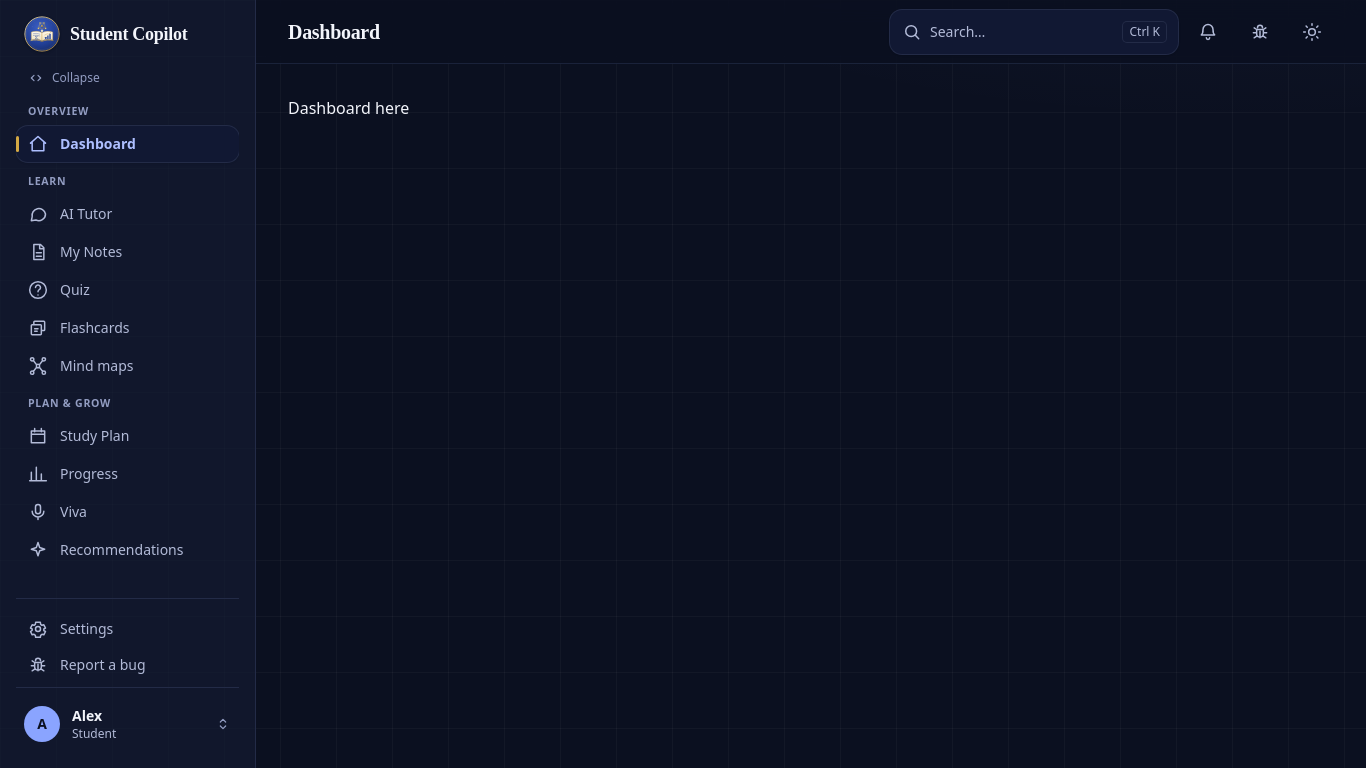
it: everyone can report a bug › a student has a visible 'Report a bug' button in the sidebar and in the top bar, and it opens one dialog
Expected: the text "Dashboard here" is shown, [288, 97, 409, 119]
Click the button "Report a bug".
click(128, 665)  # box [16, 647, 239, 683]
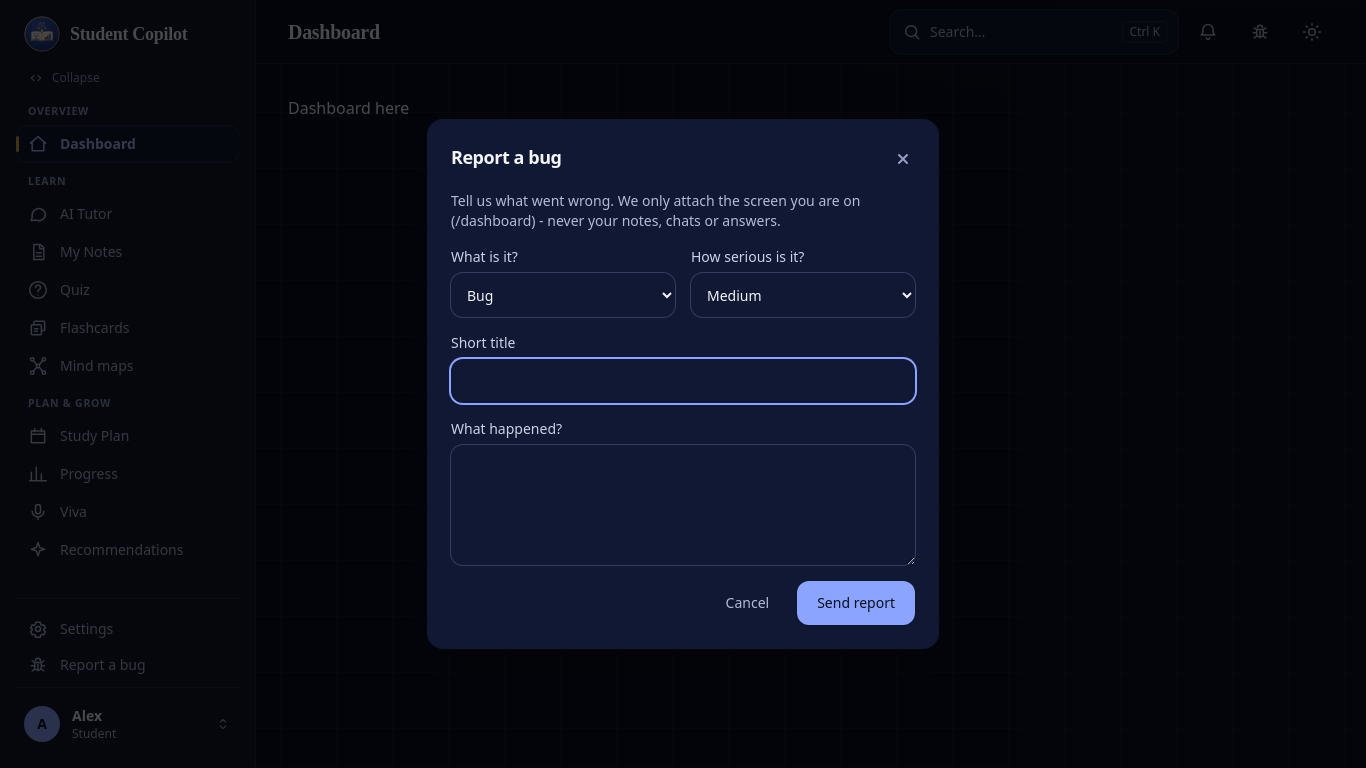
Expected: the number of dialogs "Report a bug" is 1, [427, 119, 939, 649]
